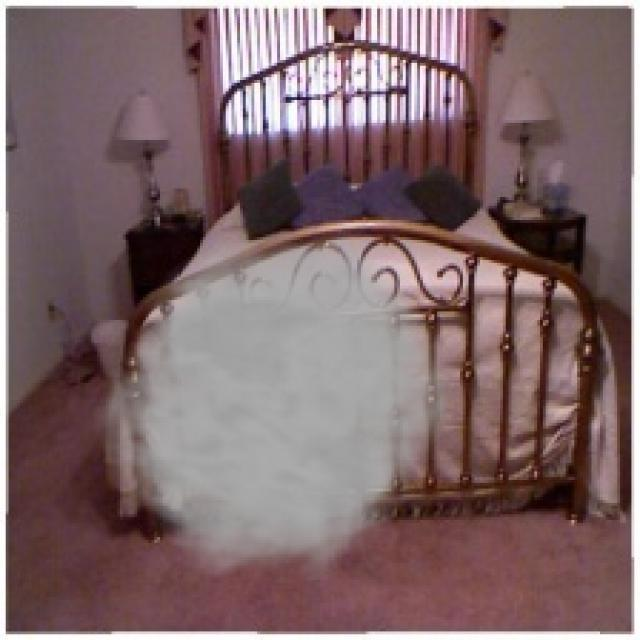Smoke: (86, 217, 463, 580)
